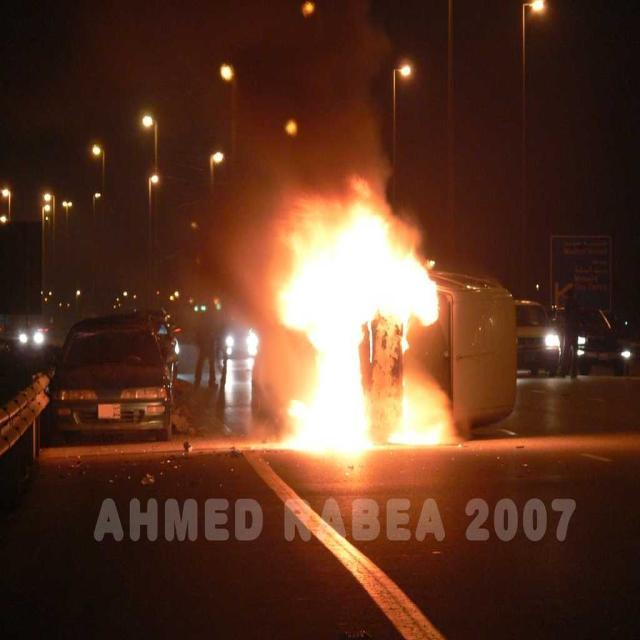Fire: (276, 184, 440, 438)
